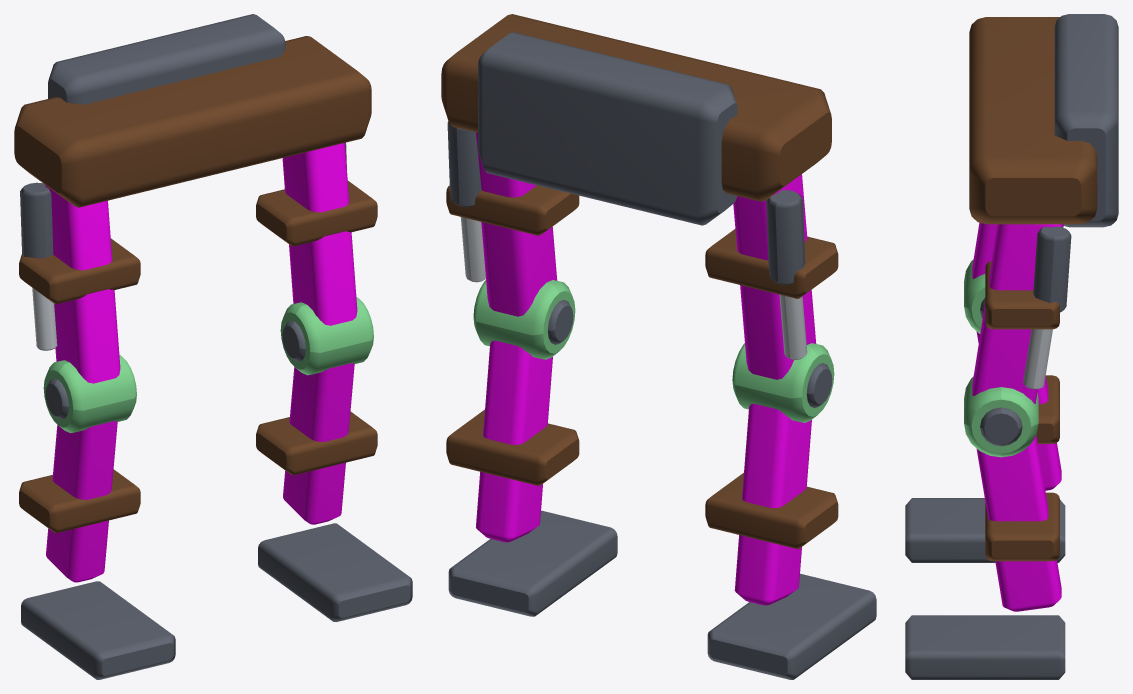
Rendered from objet_exosquelette.glb.
3 renders of one model, left to right at view 1: azimuth 30°, elevation 25°; view 2: azimuth 150°, elevation 25°; view 3: azimuth 270°, elevation 25°, orthographic. The views are drawn at different scales.
Parts seen in each view (by area): view 1: exo_sac_cuir.002, exo_exo_metal.002, exo_teinte.002, exo_exo_vert.002, exo_rivet.002; view 2: exo_exo_metal.002, exo_sac_cuir.002, exo_teinte.002, exo_exo_vert.002, exo_rivet.002; view 3: exo_exo_metal.002, exo_sac_cuir.002, exo_teinte.002, exo_exo_vert.002, exo_rivet.002.
Boxes of the visible parts, x1,y1,x2,y2 form: exo_sac_cuir.002: (14,36,377,533); exo_exo_metal.002: (20,14,412,679); exo_teinte.002: (45,143,357,582); exo_exo_vert.002: (43,297,373,433); exo_rivet.002: (32,288,57,350); exo_exo_metal.002: (447,32,876,679); exo_sac_cuir.002: (441,14,838,548); exo_teinte.002: (476,132,816,605); exo_exo_vert.002: (473,280,834,422); exo_rivet.002: (460,217,807,359); exo_exo_metal.002: (905,14,1118,679); exo_sac_cuir.002: (969,17,1097,561); exo_teinte.002: (972,222,1063,611); exo_exo_vert.002: (964,259,1038,457); exo_rivet.002: (1023,329,1052,389).
Bounding box in the file's own units: 0.18 × 0.28 × 0.1.
